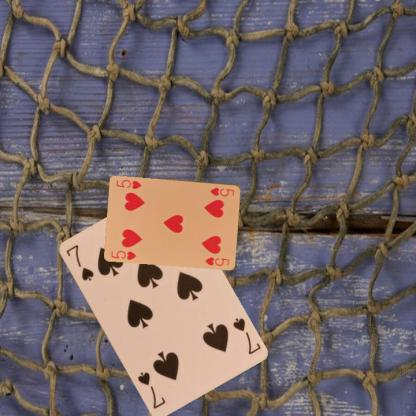5h: (108, 248, 138, 260), (208, 185, 235, 197)
7s: (229, 315, 262, 356), (63, 241, 95, 282)
